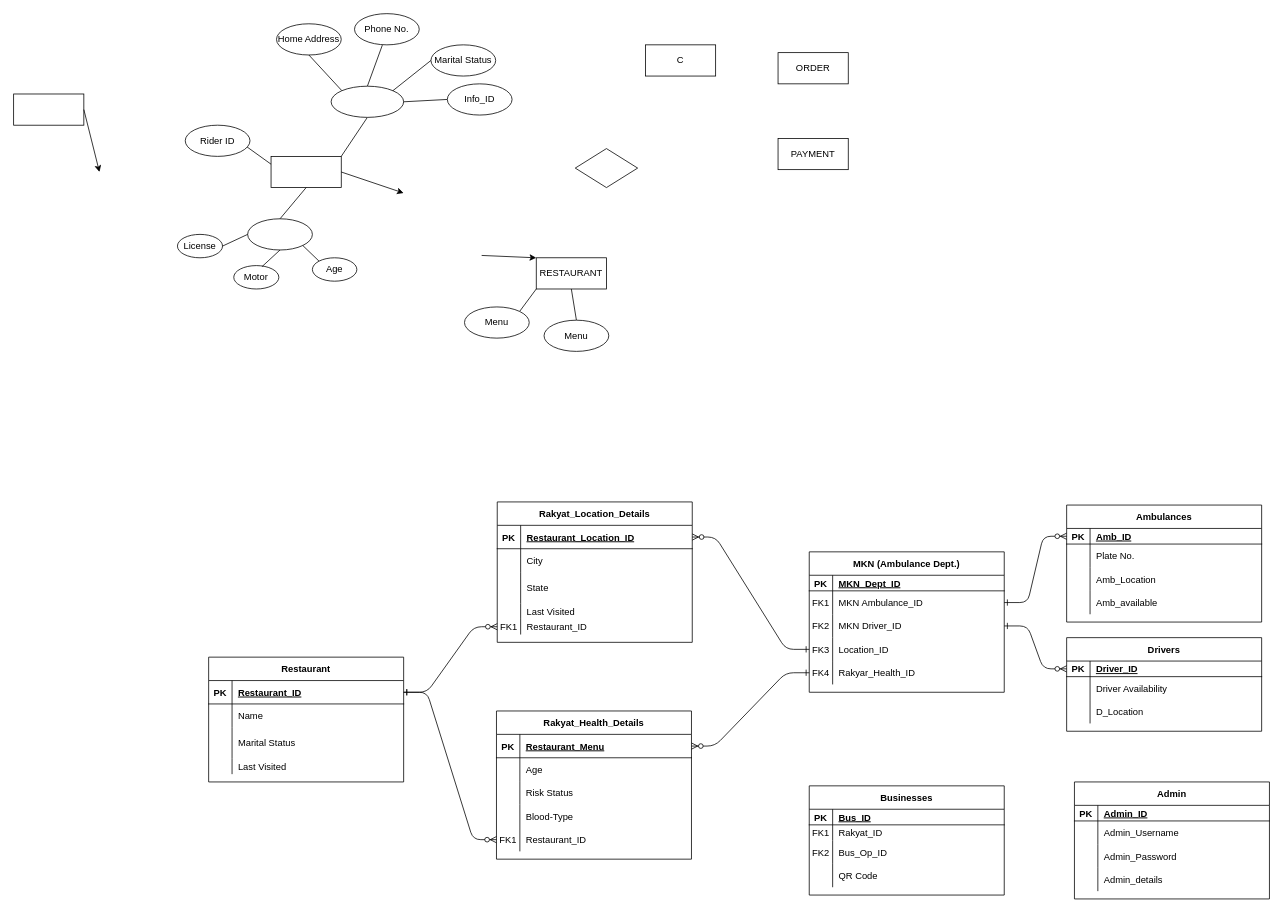
Some shapes in this 1283 by 913 pixel diagram are drawn without their labels. The centre of each missing label's shape, as x and y in pixels:
CUSTOMER: point 48,109
Get Food: point 606,168
Qualification: point 279,234
Rider Info: point 367,101
RIDERS: point 305,172
